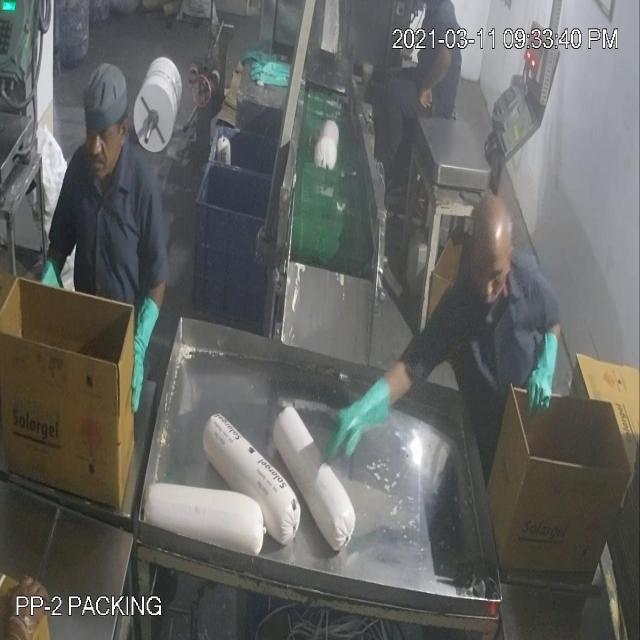Gloves: (30, 74, 542, 603)
